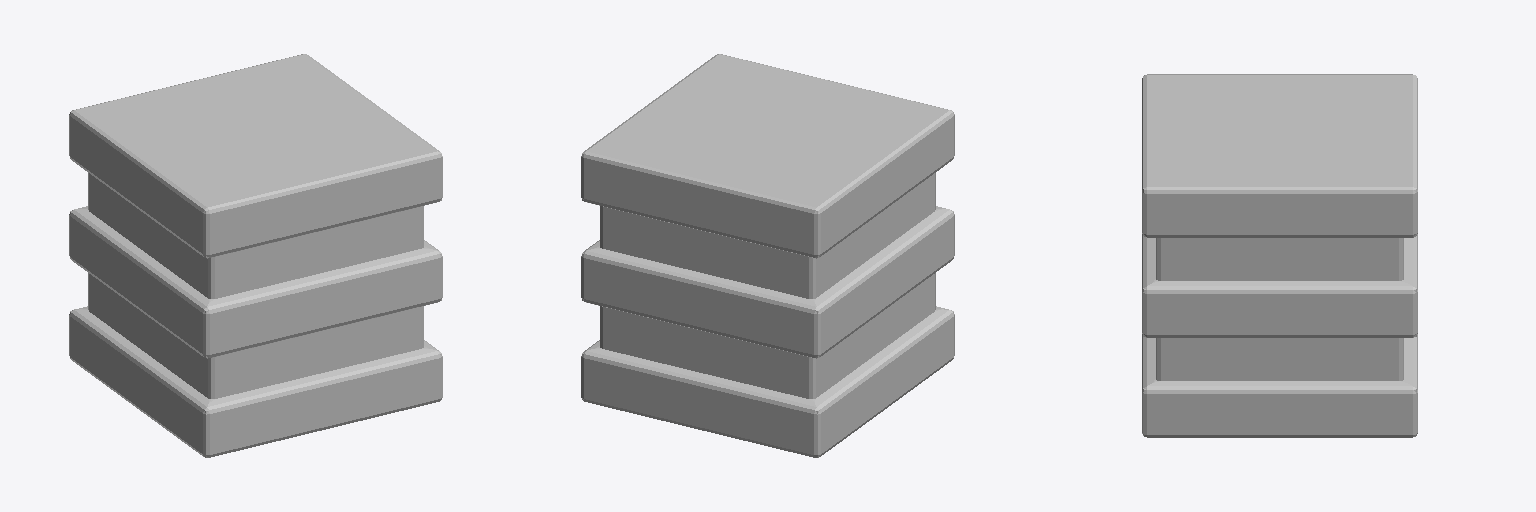
The picture shows the model from 3 angles: view 1: azimuth 30°, elevation 25°; view 2: azimuth 150°, elevation 25°; view 3: azimuth 270°, elevation 25°; orthographic projection.
Visible parts, largest first — view 1: Cube_meshId0_name; view 2: Cube_meshId0_name; view 3: Cube_meshId0_name.
Part boxes in pixels (x1,y1,x2,y2): Cube_meshId0_name: (69, 54, 442, 457); Cube_meshId0_name: (581, 54, 954, 457); Cube_meshId0_name: (1142, 74, 1417, 437).
Size of the model in its own units: 0.02 by 0.02 by 0.02.